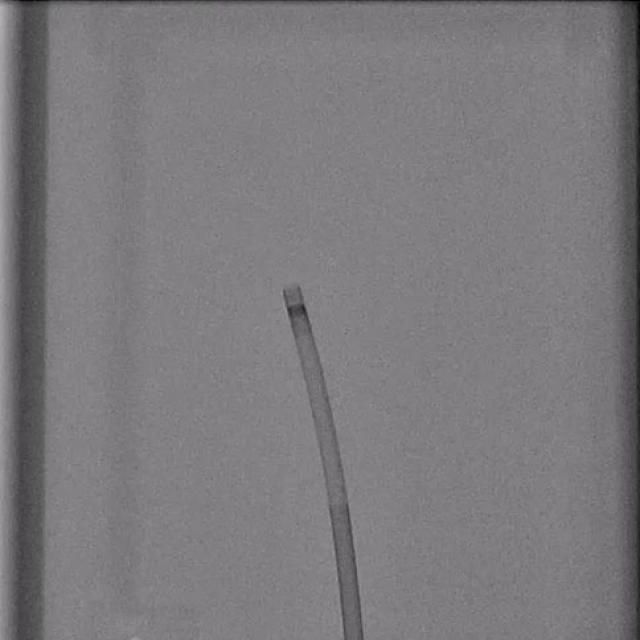bend: (327, 493, 347, 503)
entry: (343, 636, 363, 640)
marker: (288, 304, 306, 319)
tip: (283, 284, 301, 292)
